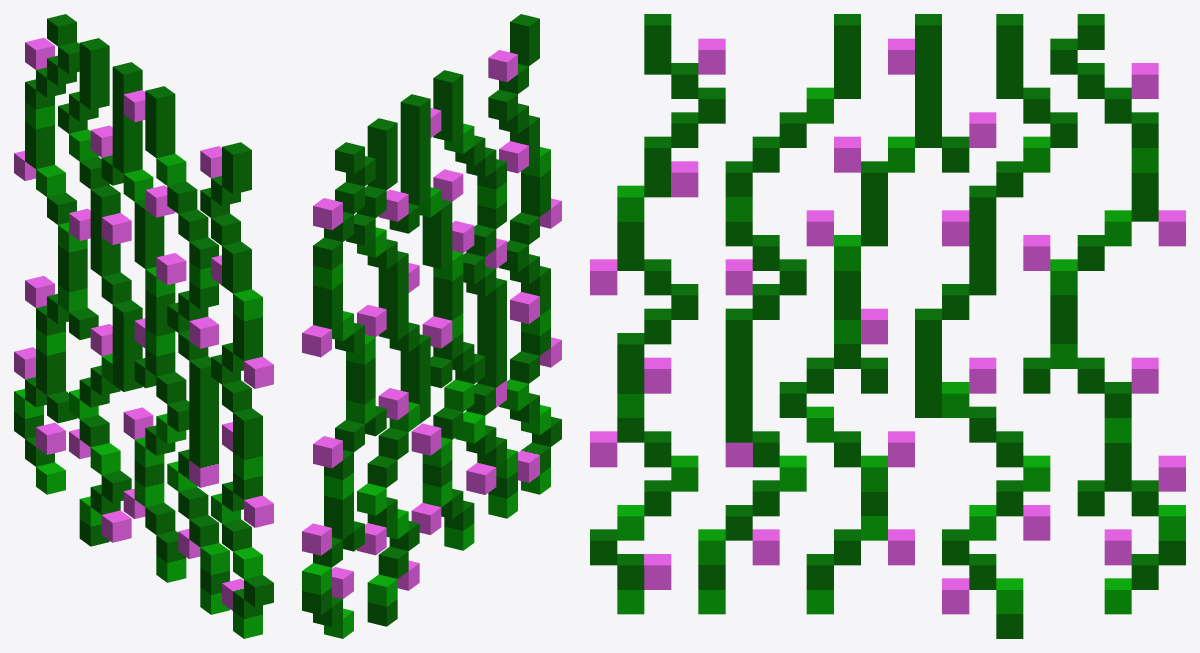
Rendered from Enredadera 3.fbx.
The picture shows the model from 3 angles, left to right: view 1: azimuth 30°, elevation 25°; view 2: azimuth 150°, elevation 25°; view 3: azimuth 270°, elevation 25°; orthographic projection. The views are drawn at different scales.
Parts seen in each view (by area): view 1: enredadera_3:Mesh; view 2: enredadera_3:Mesh; view 3: enredadera_3:Mesh.
Boxes of the visible parts, left/top/right/bottom form: enredadera_3:Mesh: left=14, top=14, right=273, bottom=638; enredadera_3:Mesh: left=302, top=14, right=561, bottom=638; enredadera_3:Mesh: left=590, top=14, right=1185, bottom=638.
Size of the model in its own units: 0.1 by 2.5 by 2.2.
